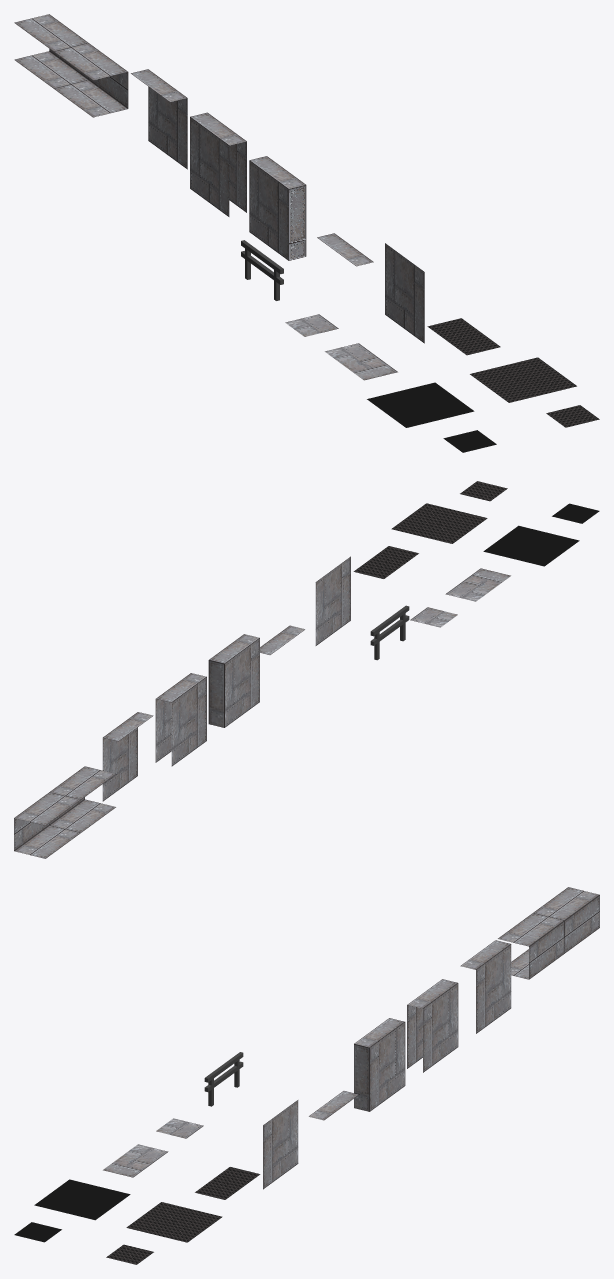
The model's file is Arena.glb.
3 views of the same model, one above another, from view 1: azimuth 30°, elevation 25°; view 2: azimuth 150°, elevation 25°; view 3: azimuth 330°, elevation 25° (orthographic). The views are drawn at different scales.
Visible parts, largest first — view 1: Pole, ClosedWall, OpenWall, OpenWall.002, WallPanel, WallBlack.2x2, Floor, Floor.LowerPart, Plane, Cube, ClosedWall.001, Floor.Corner (+2 smaller); view 2: Pole, ClosedWall, OpenWall, OpenWall.002, WallPanel, Floor, WallBlack.2x2, Floor.LowerPart, Plane, Cube, Floor.Corner, Plane.001 (+2 smaller); view 3: Pole, ClosedWall, OpenWall, OpenWall.002, WallPanel, Floor, WallBlack.2x2, Floor.LowerPart, Plane, Cube, ClosedWall.001, Floor.Corner (+2 smaller).
Part boxes in pixels (bbox=[...]): Pole: bbox=[14, 14, 128, 117]; ClosedWall: bbox=[249, 156, 306, 260]; OpenWall: bbox=[190, 112, 246, 216]; OpenWall.002: bbox=[131, 69, 187, 169]; WallPanel: bbox=[385, 243, 424, 343]; WallBlack.2x2: bbox=[367, 382, 474, 427]; Floor: bbox=[470, 357, 576, 402]; Floor.LowerPart: bbox=[427, 318, 500, 355]; Plane: bbox=[325, 343, 397, 380]; Cube: bbox=[241, 240, 283, 300]; ClosedWall.001: bbox=[317, 233, 373, 266]; Floor.Corner: bbox=[546, 405, 599, 427]; Pole: bbox=[14, 766, 115, 858]; ClosedWall: bbox=[208, 634, 259, 727]; OpenWall: bbox=[155, 673, 206, 766]; OpenWall.002: bbox=[102, 712, 153, 801]; WallPanel: bbox=[315, 556, 350, 645]; Floor: bbox=[391, 503, 487, 543]; WallBlack.2x2: bbox=[483, 525, 579, 566]; Floor.LowerPart: bbox=[353, 546, 418, 578]; Plane: bbox=[445, 568, 510, 601]; Cube: bbox=[370, 605, 409, 660]; Floor.Corner: bbox=[460, 481, 507, 501]; Plane.001: bbox=[410, 607, 457, 627]; Pole: bbox=[498, 887, 599, 979]; ClosedWall: bbox=[354, 1018, 405, 1111]; OpenWall: bbox=[407, 979, 458, 1072]; OpenWall.002: bbox=[460, 940, 511, 1033]; WallPanel: bbox=[263, 1100, 298, 1189]; Floor: bbox=[126, 1202, 222, 1242]; WallBlack.2x2: bbox=[34, 1179, 130, 1220]; Floor.LowerPart: bbox=[195, 1167, 260, 1199]; Plane: bbox=[103, 1144, 168, 1177]; Cube: bbox=[204, 1052, 243, 1106]; ClosedWall.001: bbox=[309, 1091, 359, 1120]; Floor.Corner: bbox=[106, 1244, 153, 1264].
Bounding box in the file's own units: 5 × 2 × 27.
Materials: 6 (4 with a texture image).
